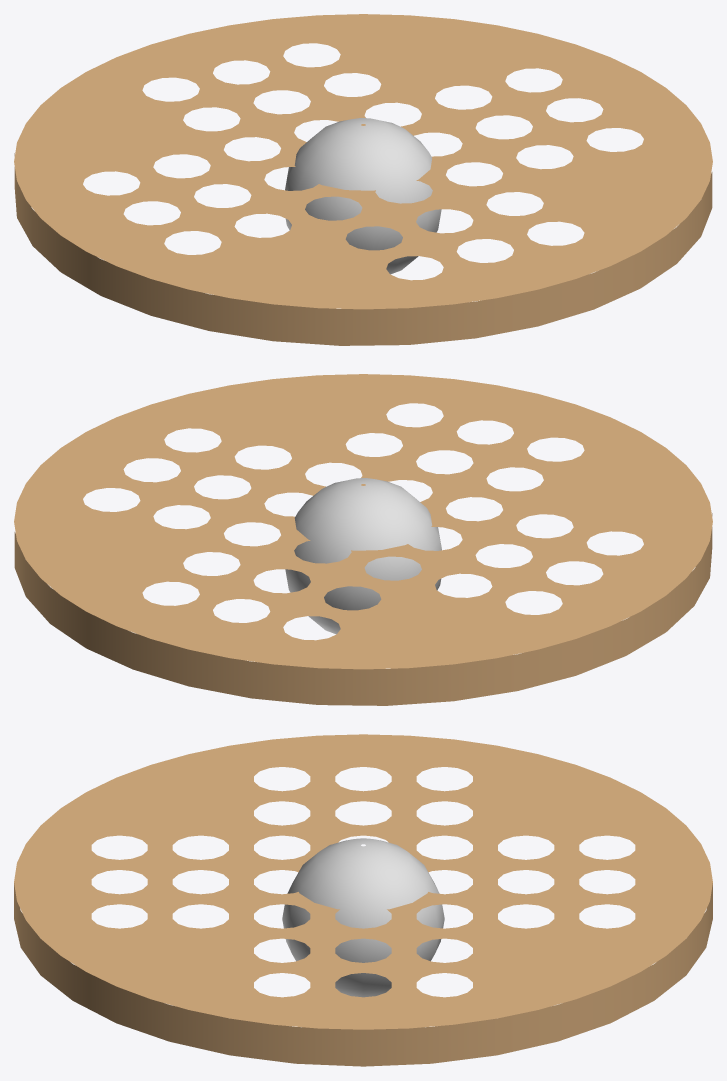
File: plateau.glb
The picture shows the model from 3 angles, top to bottom: view 1: azimuth 30°, elevation 25°; view 2: azimuth 150°, elevation 25°; view 3: azimuth 270°, elevation 25°; orthographic projection.
Visible parts, largest first — view 1: board, m_2; view 2: board, m_2; view 3: board, m_2.
Part boxes in pixels (x1,y1,x2,y2): board: (14, 14, 712, 345); m_2: (285, 118, 441, 274); board: (14, 374, 712, 705); m_2: (285, 478, 441, 634); board: (14, 734, 712, 1066); m_2: (282, 838, 444, 997).
Size of what is drawn, in the model's own units: 8.6 by 2 by 8.6.
